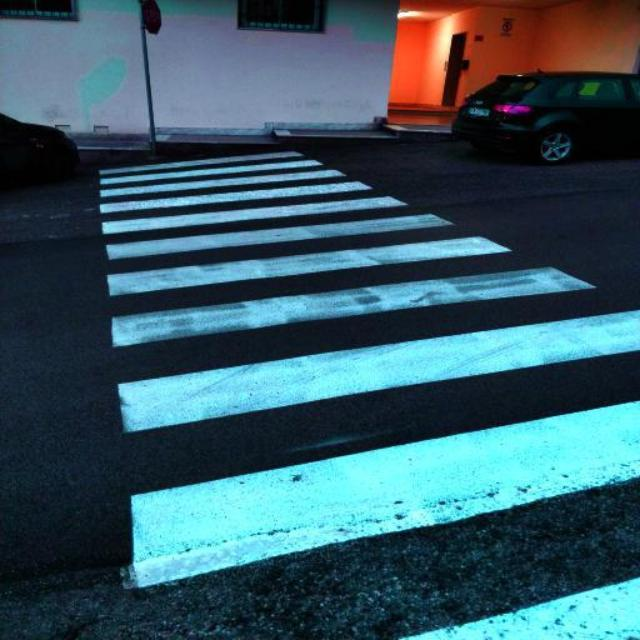sidewalk: (98, 146, 640, 640)
